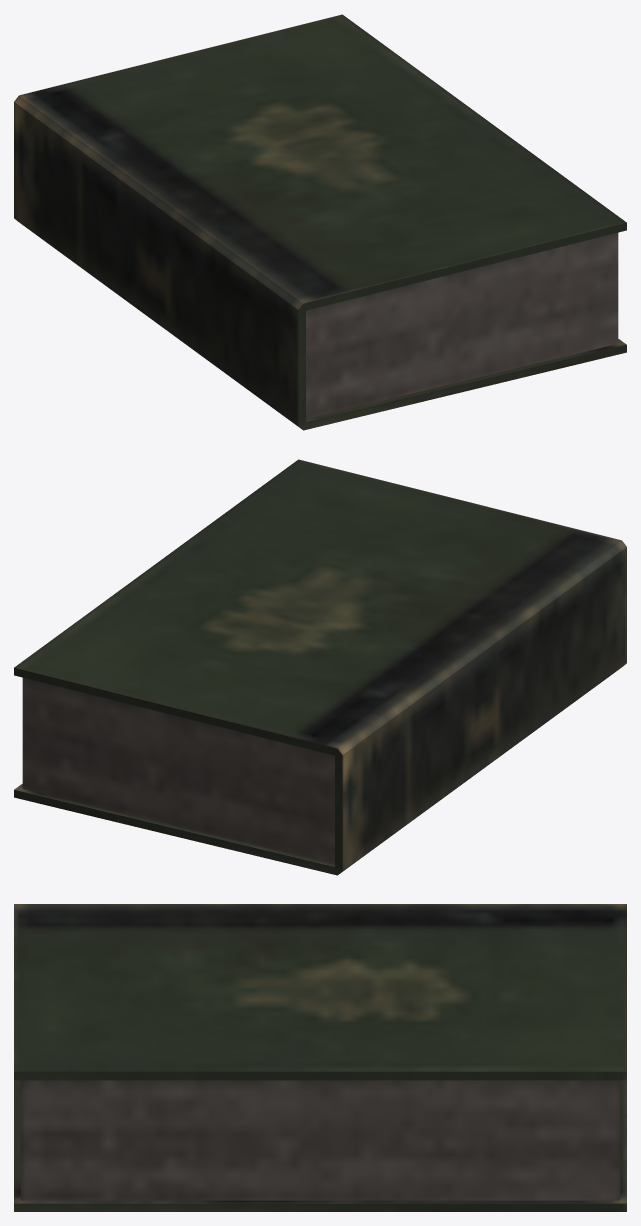
File: book_mp_3.fbx
The picture shows the model from 3 angles, top to bottom: view 1: azimuth 30°, elevation 25°; view 2: azimuth 150°, elevation 25°; view 3: azimuth 270°, elevation 25°; orthographic projection. The views are drawn at different scales.
Visible parts, largest first — view 1: book_mp_3; view 2: book_mp_3; view 3: book_mp_3.
Boxes of the visible parts, x1,y1,x2,y2 form: book_mp_3: [14, 14, 626, 430]; book_mp_3: [14, 459, 626, 875]; book_mp_3: [14, 904, 626, 1211].
Size of the model in its own units: 0.18 by 0.068 by 0.27.
Materials: 1 (1 with a texture image).
